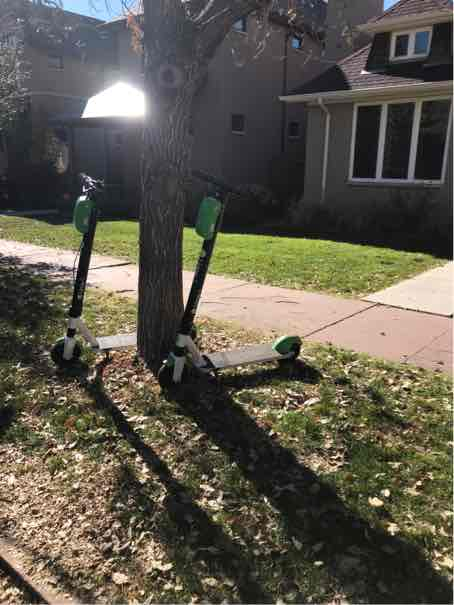scooter: (162, 163, 312, 395)
